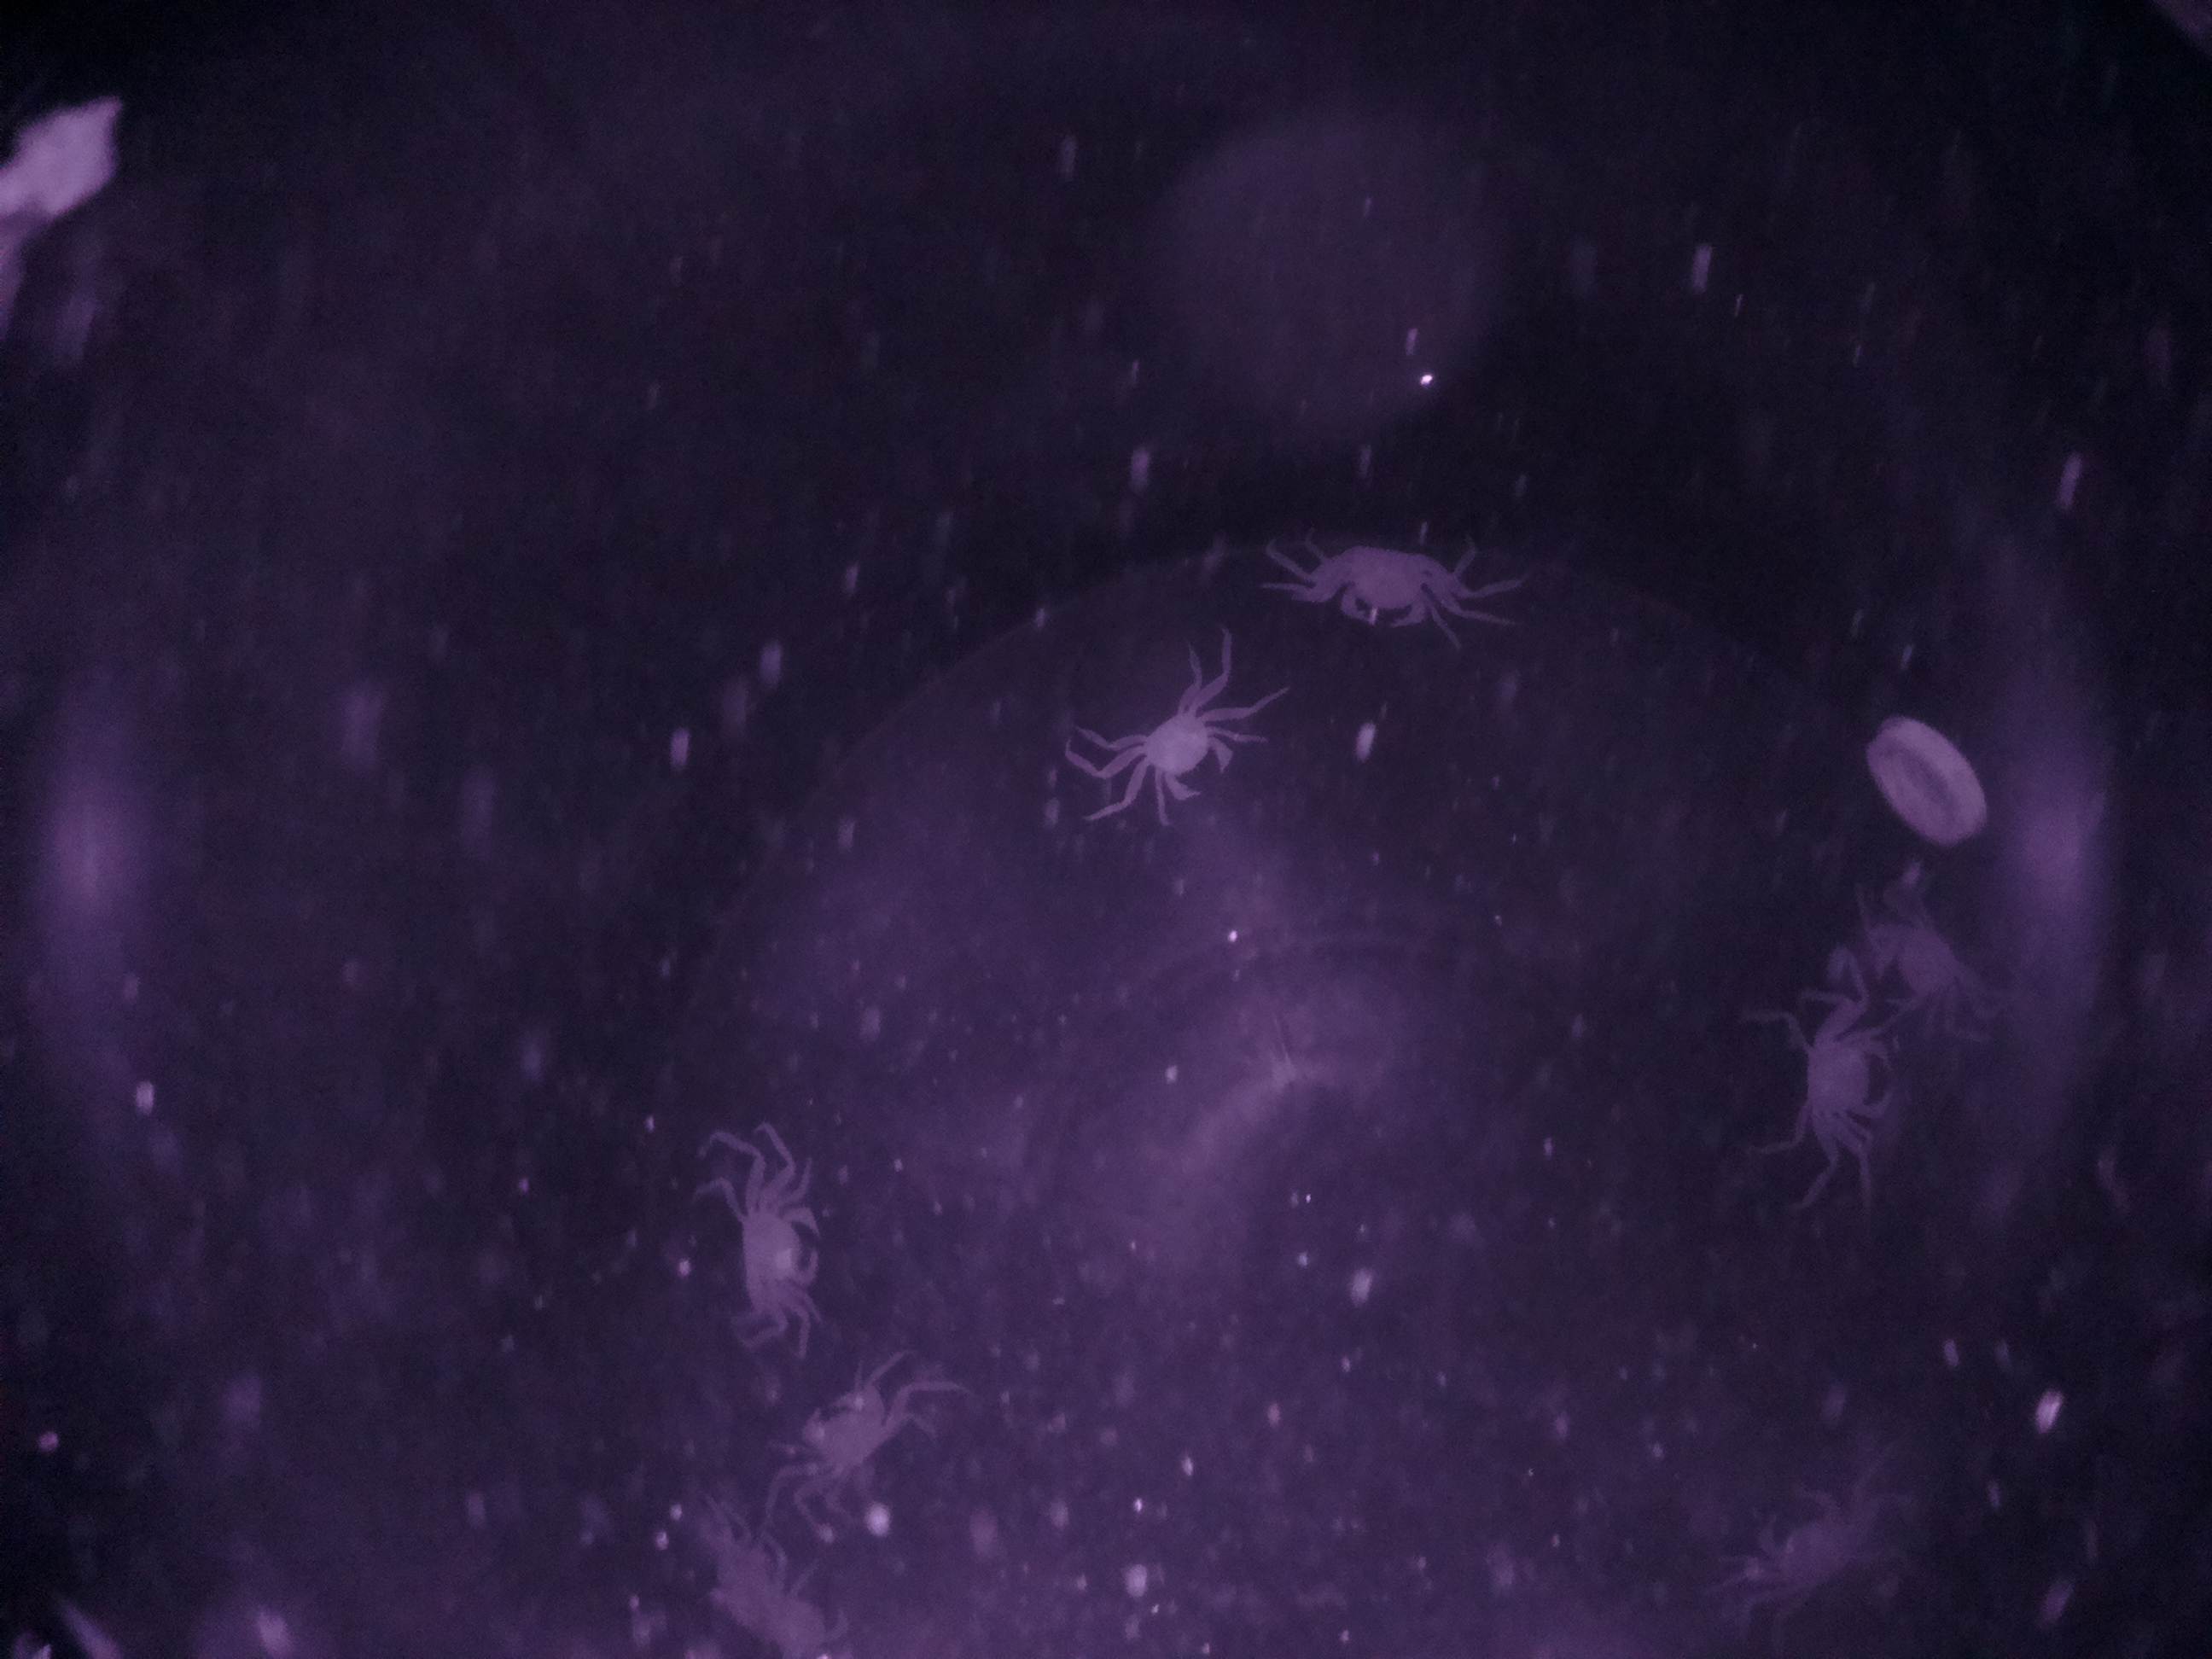Crab: (1791, 1016, 1909, 1140), (1318, 532, 1447, 640), (794, 1380, 916, 1493), (1136, 688, 1247, 809), (730, 1188, 833, 1307)
